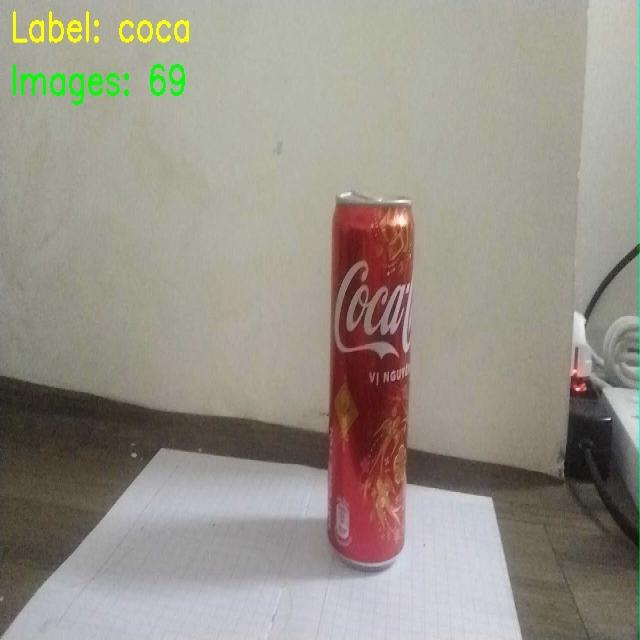Coca: (325, 183, 424, 575)
